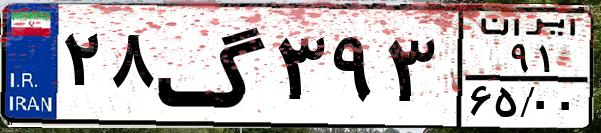0: (560, 70, 590, 125), (535, 70, 560, 125)
1: (537, 27, 568, 80)
2: (57, 26, 110, 100)
3: (270, 28, 330, 110), (385, 28, 445, 110)
5: (495, 70, 520, 125)
6: (470, 70, 495, 125)
8: (110, 28, 156, 98)
9: (330, 28, 385, 110), (508, 27, 537, 80)
گ: (156, 12, 270, 120)
